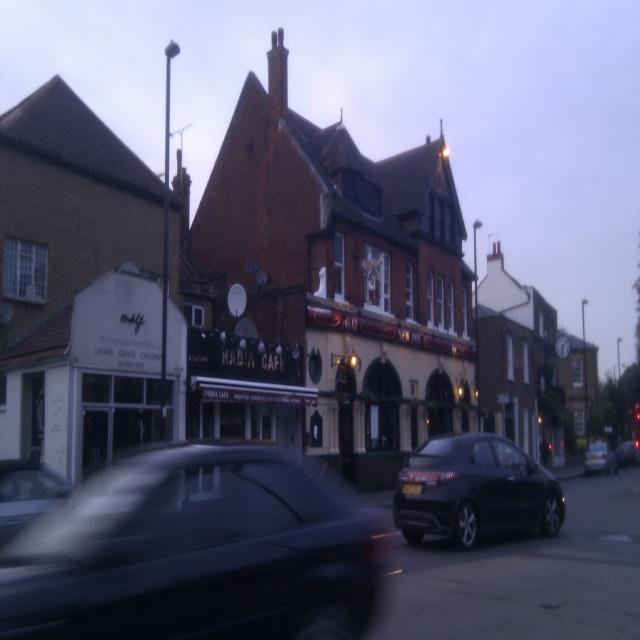car: (392, 428, 570, 553)
